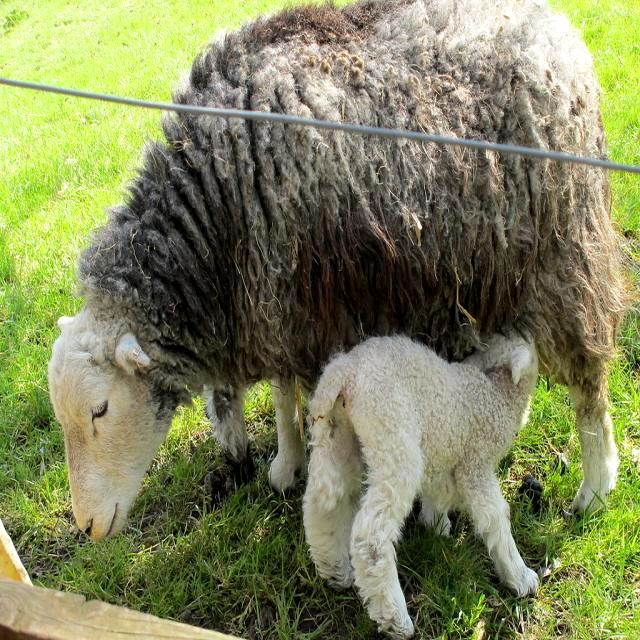sheep: (47, 0, 635, 536), (312, 334, 538, 613)
